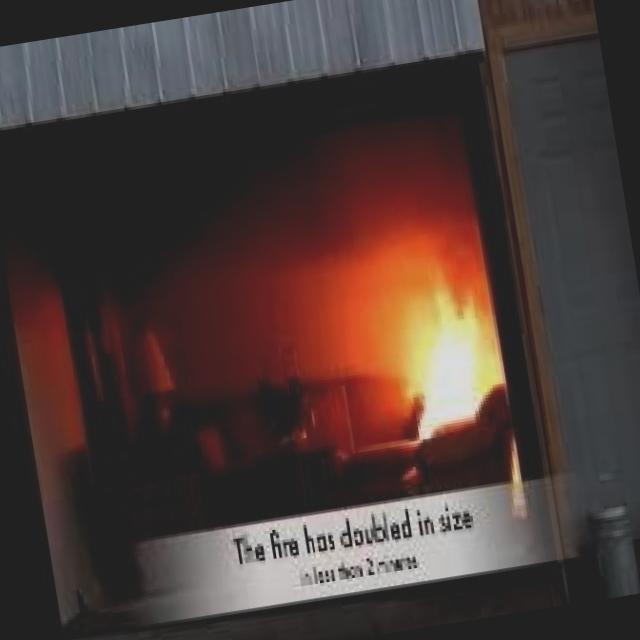fire: (378, 241, 507, 432)
